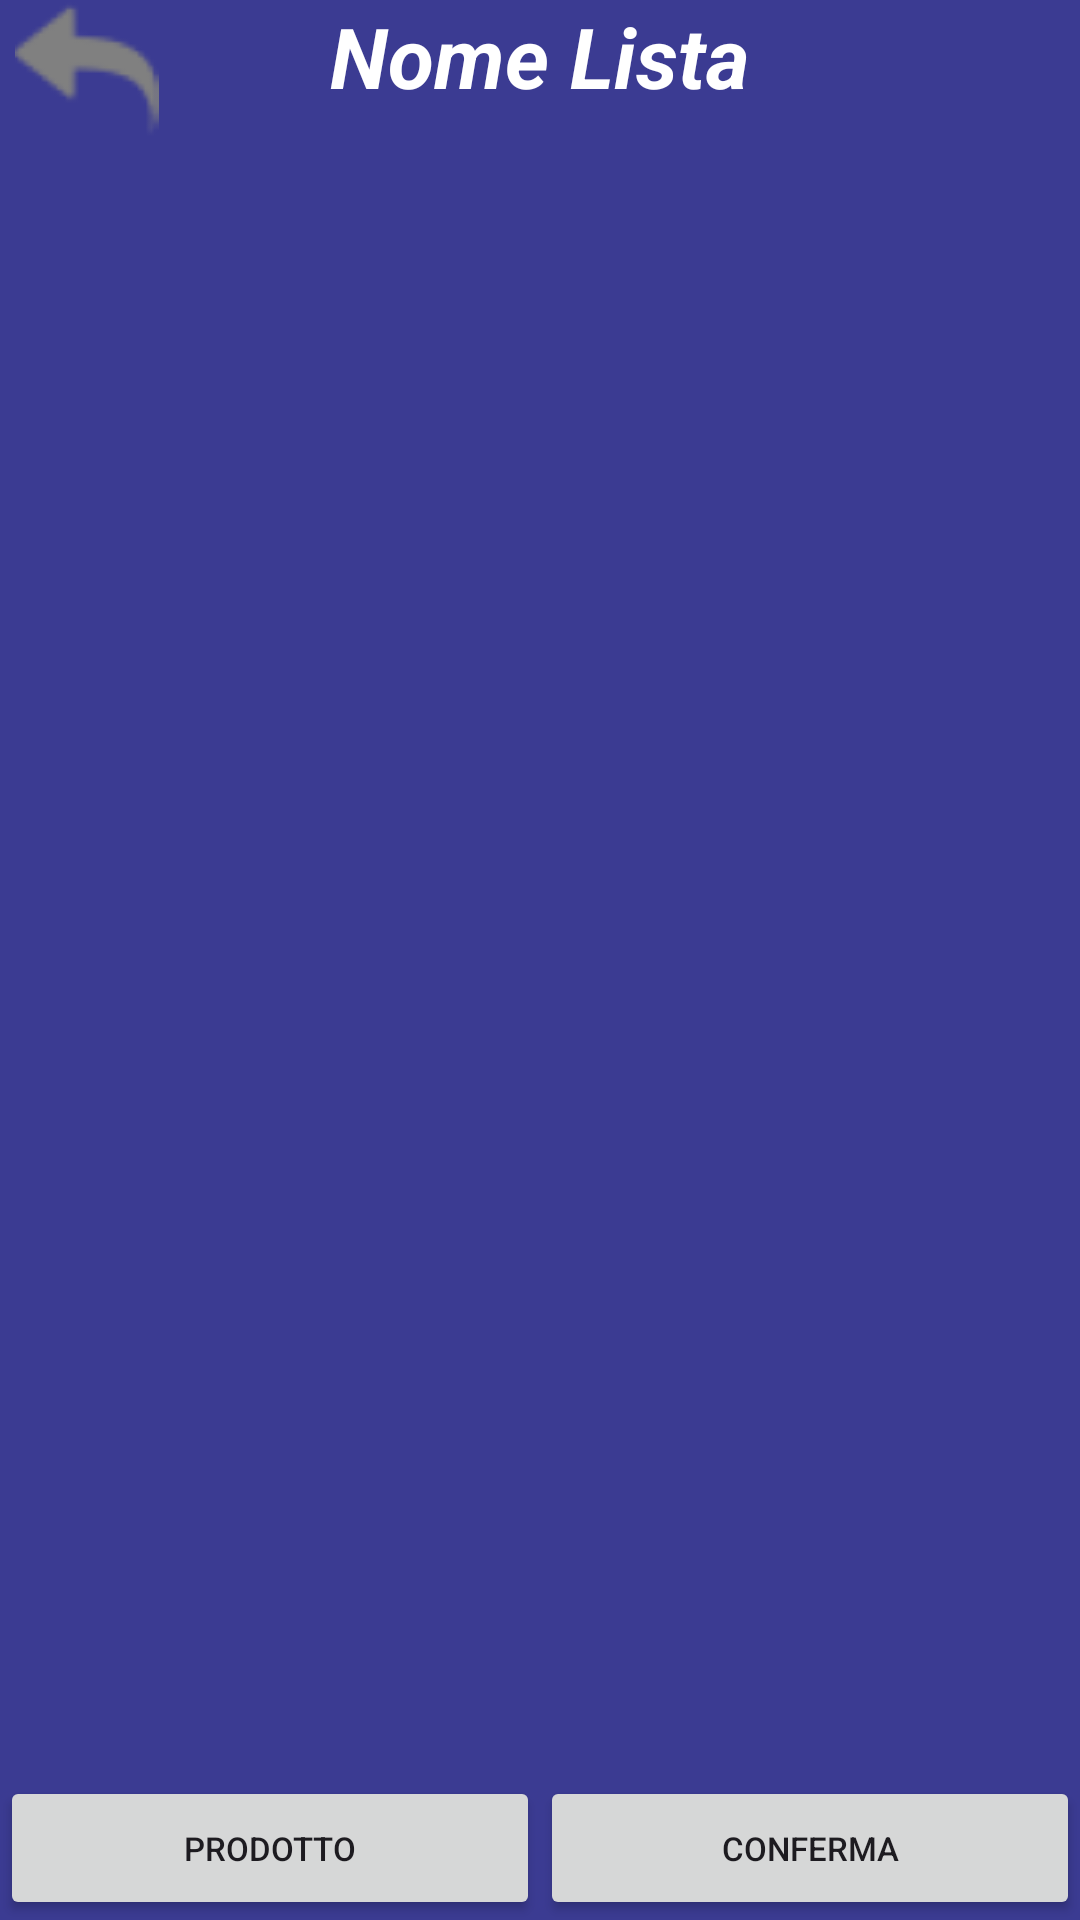

Where to tap for icons on this 1080x1920 app screen, as point (x, y):
go back: point (87, 64)
